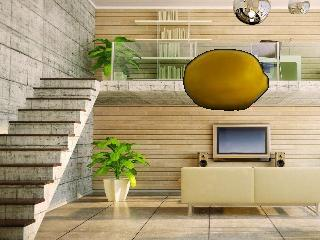lemon: (185, 50, 269, 111)
